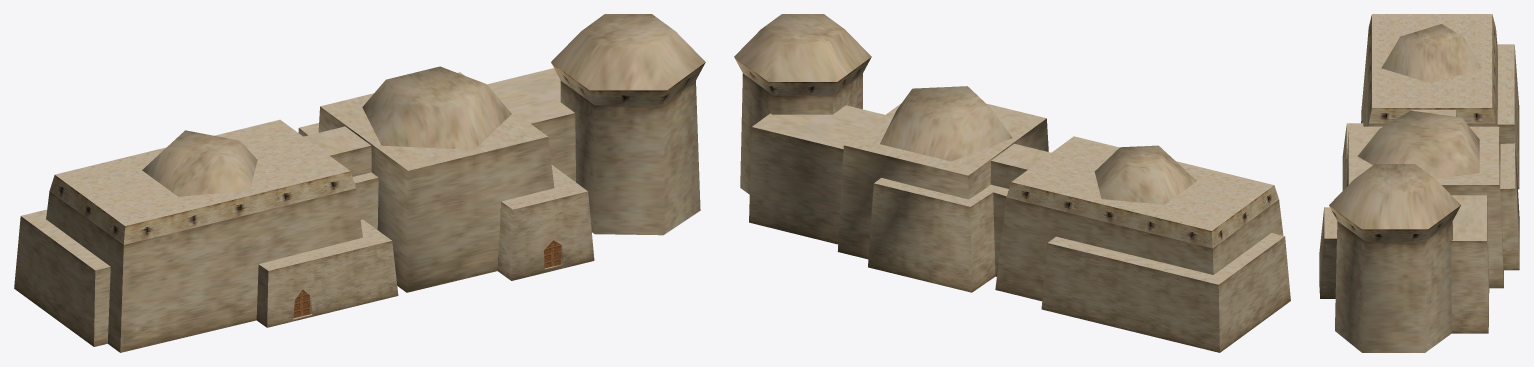
The model's file is thm_tato_block_bldg_64x32_s01_l3.fbx.
3 renders of one model, left to right at view 1: azimuth 30°, elevation 25°; view 2: azimuth 150°, elevation 25°; view 3: azimuth 270°, elevation 25°, orthographic. The views are drawn at different scales.
Parts seen in each view (by area): view 1: mesh_node; view 2: mesh_node; view 3: mesh_node.
Part boxes in pixels (<box>): mesh_node: <box>14,14,705,352</box>; mesh_node: <box>734,14,1290,352</box>; mesh_node: <box>1319,14,1519,352</box>.
Bounding box in the file's own units: 66.96 × 19.04 × 22.72.
Materials: 1 (1 with a texture image).
